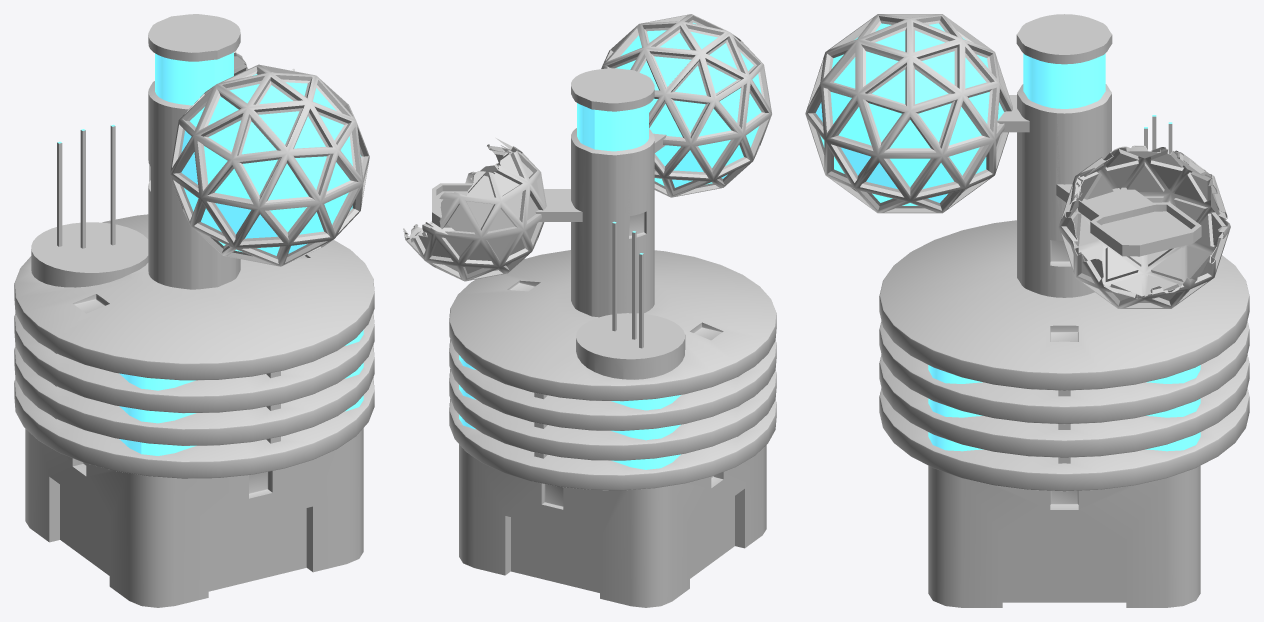
The model's file is OutpostC.fbx.
3 renders of one model, left to right at view 1: azimuth 30°, elevation 25°; view 2: azimuth 150°, elevation 25°; view 3: azimuth 270°, elevation 25°, orthographic. The views are drawn at different scales.
Visible parts, largest first — view 1: Outpost C; view 2: Outpost C; view 3: Outpost C.
Part boxes in pixels (box(x1,y1,x2,y2)): Outpost C: box(14, 14, 374, 607); Outpost C: box(403, 14, 776, 607); Outpost C: box(805, 14, 1249, 607).
Size of the model in its own units: 640 by 951 by 720.
